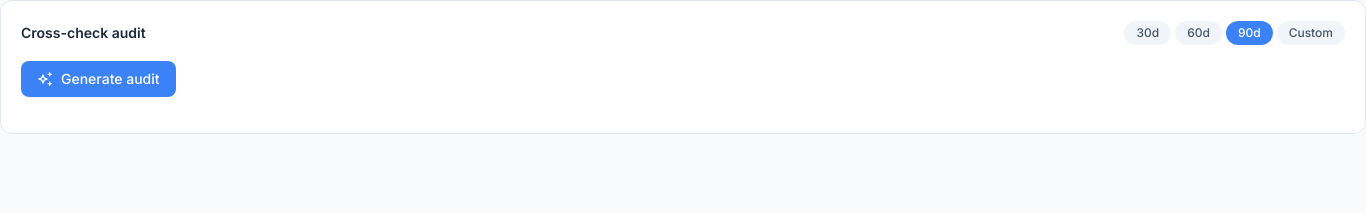
Scenario: CrossCheckAudit › 422 shows period-too-large banner
Click the button "Generate audit" at [98, 79], box [21,61,176,97]
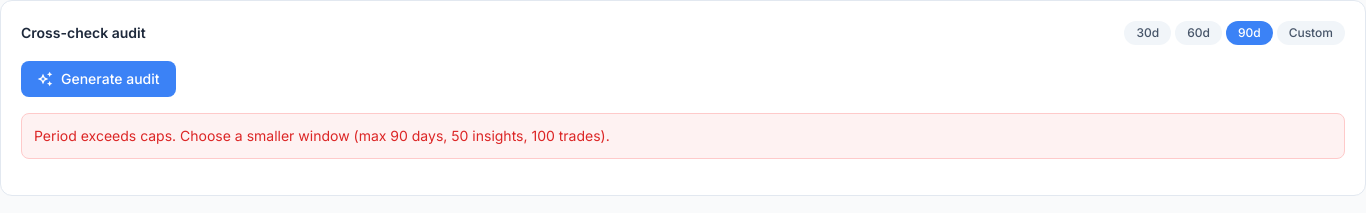
Expected: the text "Period exceeds caps" is shown, [34,127,610,144]
